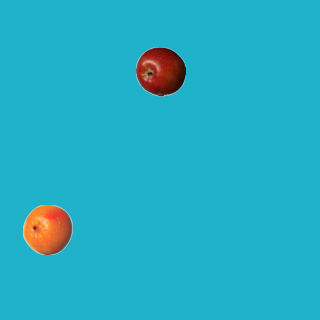Apple Braeburn: (135, 46, 185, 96)
Grapefruit Pink: (22, 204, 72, 254)
